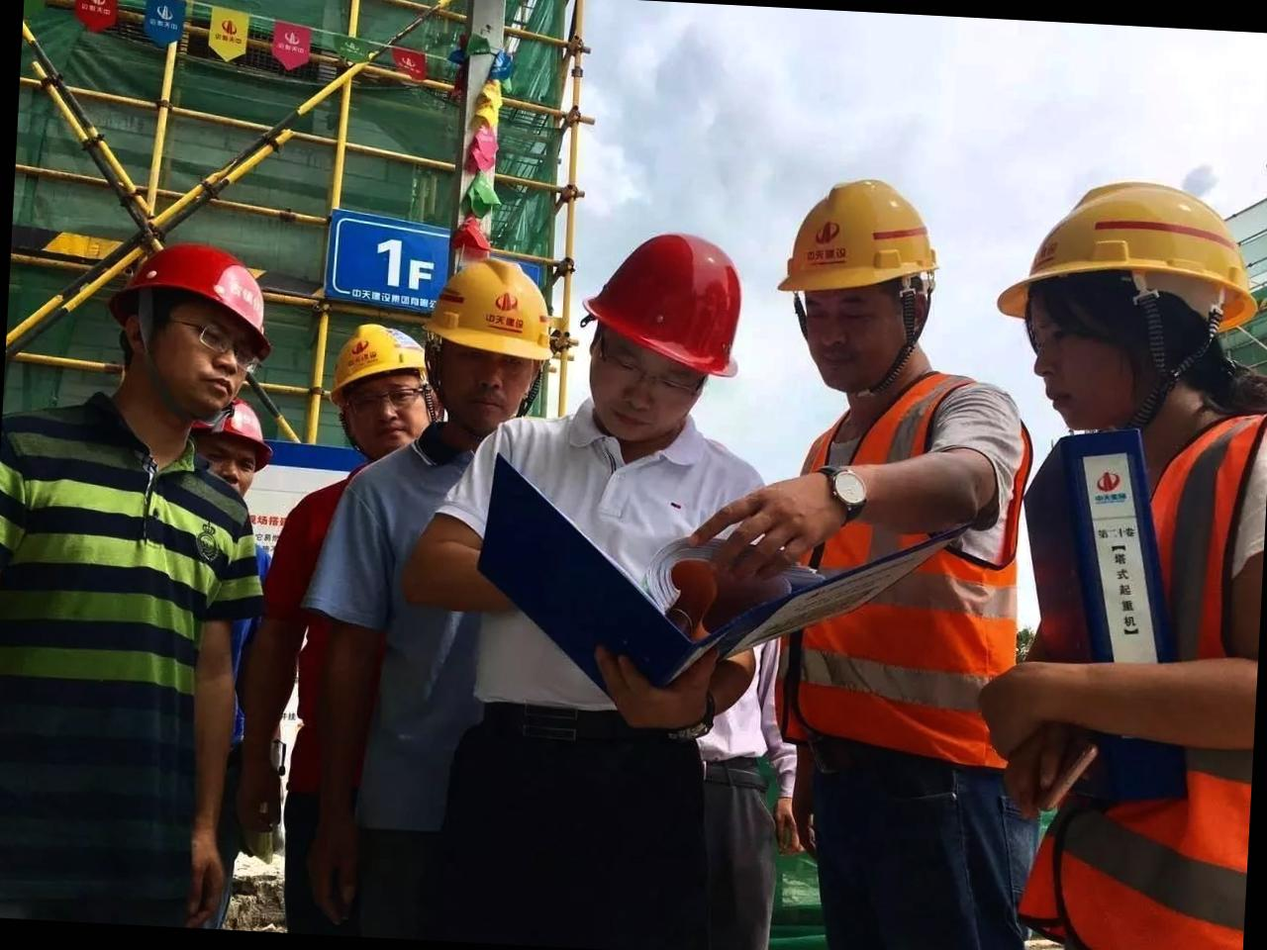helmet: (988, 166, 1267, 355), (564, 220, 765, 396), (769, 171, 951, 326), (114, 229, 292, 343), (415, 245, 560, 379), (311, 316, 442, 419)
no_vest: (0, 440, 255, 840), (490, 402, 745, 730)
person: (731, 177, 1059, 950), (969, 143, 1267, 950), (0, 236, 308, 931), (521, 225, 800, 950)
